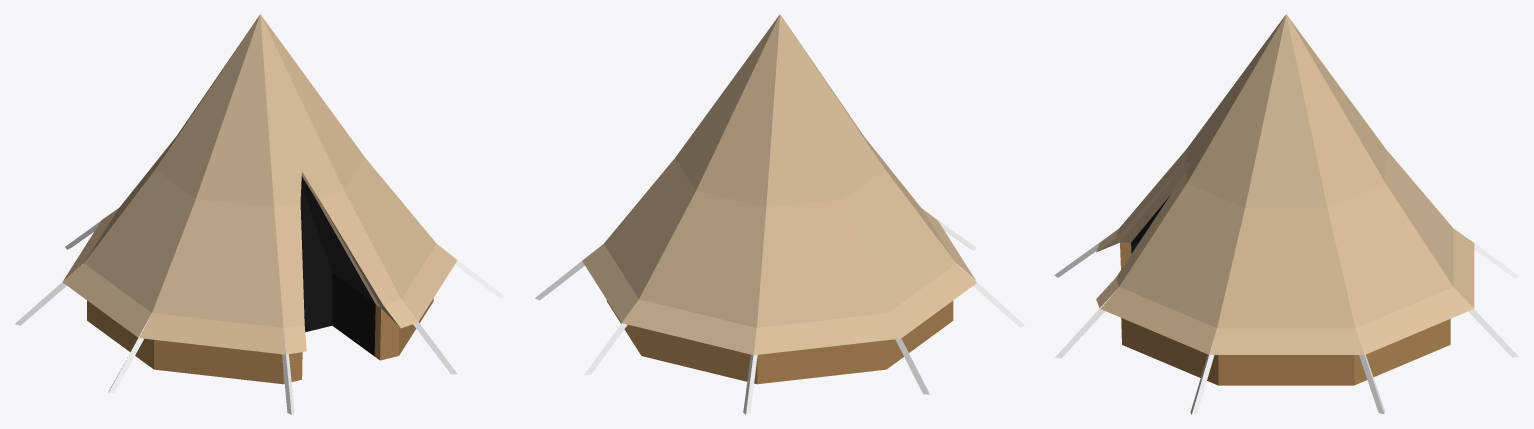
Rendered from zulu_tent-bloemfontein-small.fbx.
3 renders of one model, left to right at view 1: azimuth 30°, elevation 25°; view 2: azimuth 150°, elevation 25°; view 3: azimuth 270°, elevation 25°, orthographic.
Parts seen in each view (by area): view 1: zulu_tent_bloemfontein_small; view 2: zulu_tent_bloemfontein_small; view 3: zulu_tent_bloemfontein_small.
Part boxes in pixels (bbox=[...]): zulu_tent_bloemfontein_small: bbox=[15, 14, 505, 414]; zulu_tent_bloemfontein_small: bbox=[534, 14, 1025, 414]; zulu_tent_bloemfontein_small: bbox=[1054, 14, 1519, 414].
Bounding box in the file's own units: 200 × 143 × 199.
